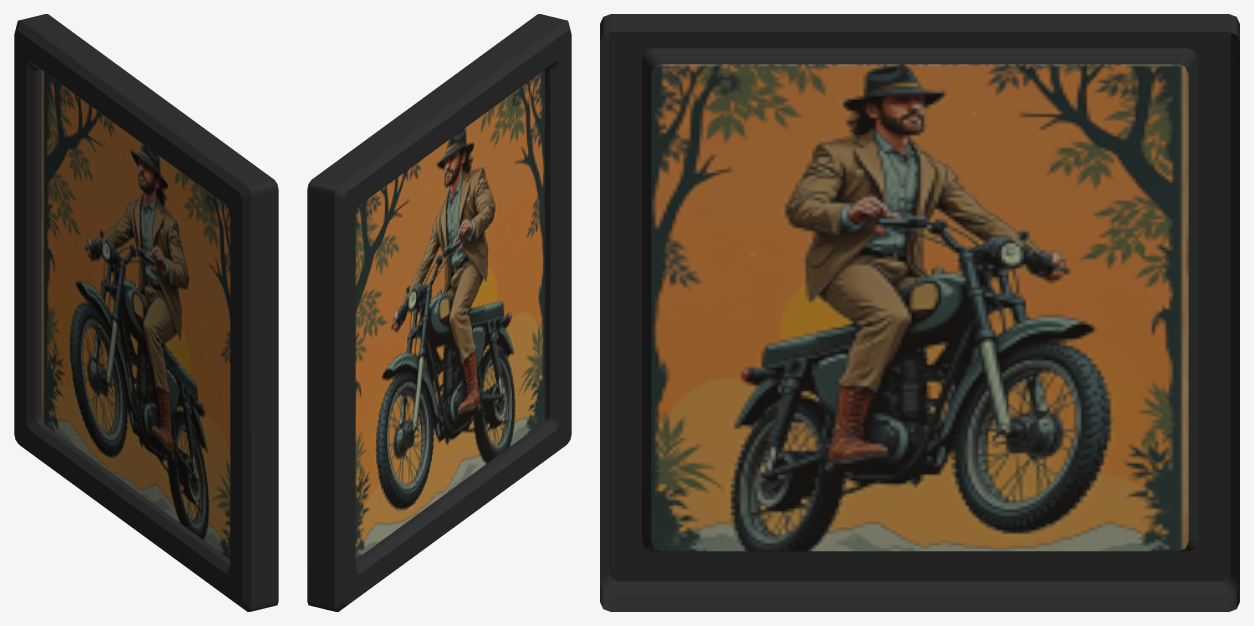
File: SM_Frame13.fbx
3 renders of one model, left to right at view 1: azimuth 30°, elevation 25°; view 2: azimuth 150°, elevation 25°; view 3: azimuth 270°, elevation 25°, orthographic. The views are drawn at different scales.
Visible parts, largest first — view 1: SM_Frame13_LOD0; view 2: SM_Frame13_LOD0; view 3: SM_Frame13_LOD0.
Boxes of the visible parts, x1,y1,x2,y2 form: SM_Frame13_LOD0: (14, 14, 278, 611); SM_Frame13_LOD0: (307, 14, 571, 611); SM_Frame13_LOD0: (600, 14, 1239, 611).
Bounding box in the file's own units: 4.08 × 50 × 50.
1 material, 1 textured.
